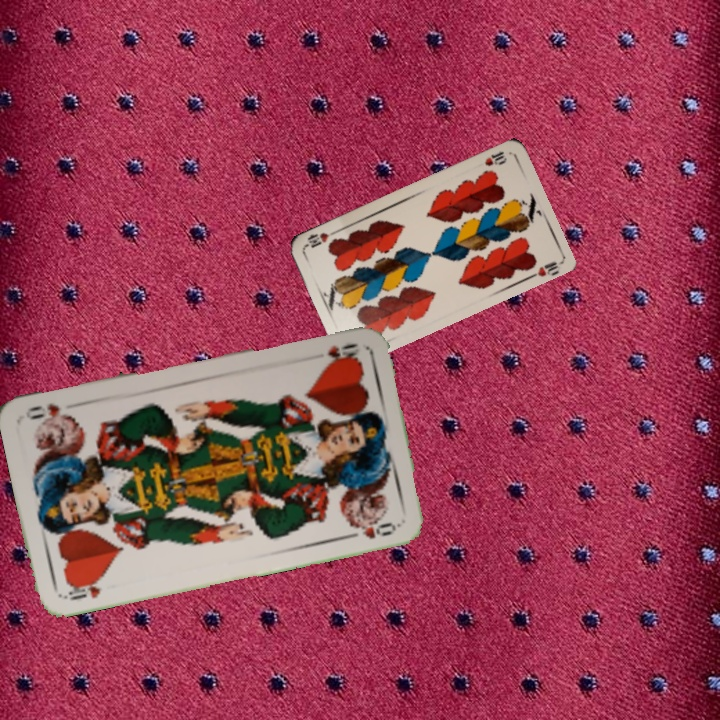H10: (480, 147, 510, 169)
HO: (60, 574, 104, 603), (323, 339, 362, 363)
